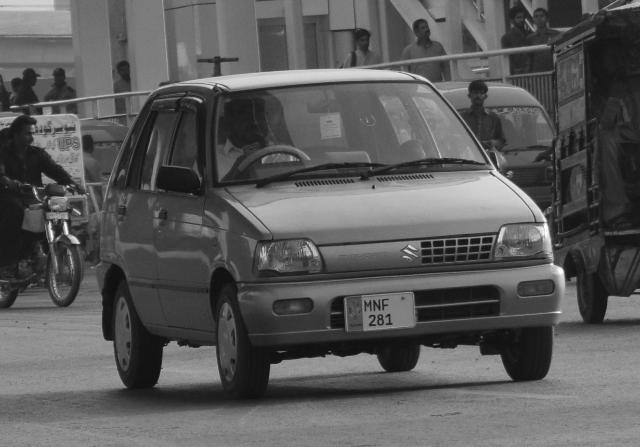Number: (365, 298, 395, 328)
